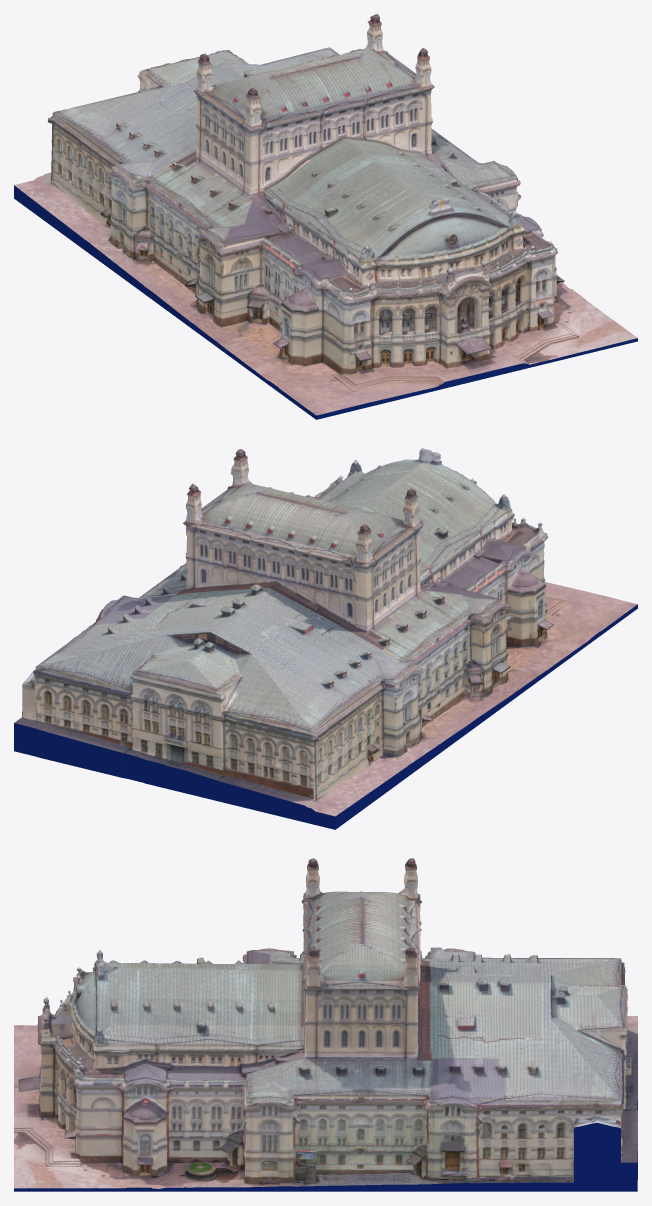
Rendered from National Opera of Ukraine.glb.
3 views of the same model, one above another, from view 1: azimuth 30°, elevation 25°; view 2: azimuth 150°, elevation 25°; view 3: azimuth 270°, elevation 25° (orthographic). The views are drawn at different scales.
Parts seen in each view (by area): view 1: default001_2_30_Opera_Shevi_Diffuse_0, default001_2_30_Opera_Shevi_Diffuse_0.001, default001_Plaster_0; view 2: default001_2_30_Opera_Shevi_Diffuse_0, default001_Plaster_0, default001_2_30_Opera_Shevi_Diffuse_0.001; view 3: default001_2_30_Opera_Shevi_Diffuse_0, default001_Plaster_0, default001_2_30_Opera_Shevi_Diffuse_0.001.
Part boxes in pixels (<box>): default001_2_30_Opera_Shevi_Diffuse_0: <box>14,14,637,412</box>; default001_2_30_Opera_Shevi_Diffuse_0.001: <box>49,14,622,415</box>; default001_Plaster_0: <box>14,185,637,419</box>; default001_2_30_Opera_Shevi_Diffuse_0: <box>22,448,625,816</box>; default001_Plaster_0: <box>14,604,637,829</box>; default001_2_30_Opera_Shevi_Diffuse_0.001: <box>14,452,637,797</box>; default001_2_30_Opera_Shevi_Diffuse_0: <box>14,858,637,1188</box>; default001_Plaster_0: <box>14,1101,637,1191</box>; default001_2_30_Opera_Shevi_Diffuse_0.001: <box>14,873,637,1188</box>.
Size of the model in its own units: 64.66 by 39.49 by 105.
2 materials, 1 textured.
